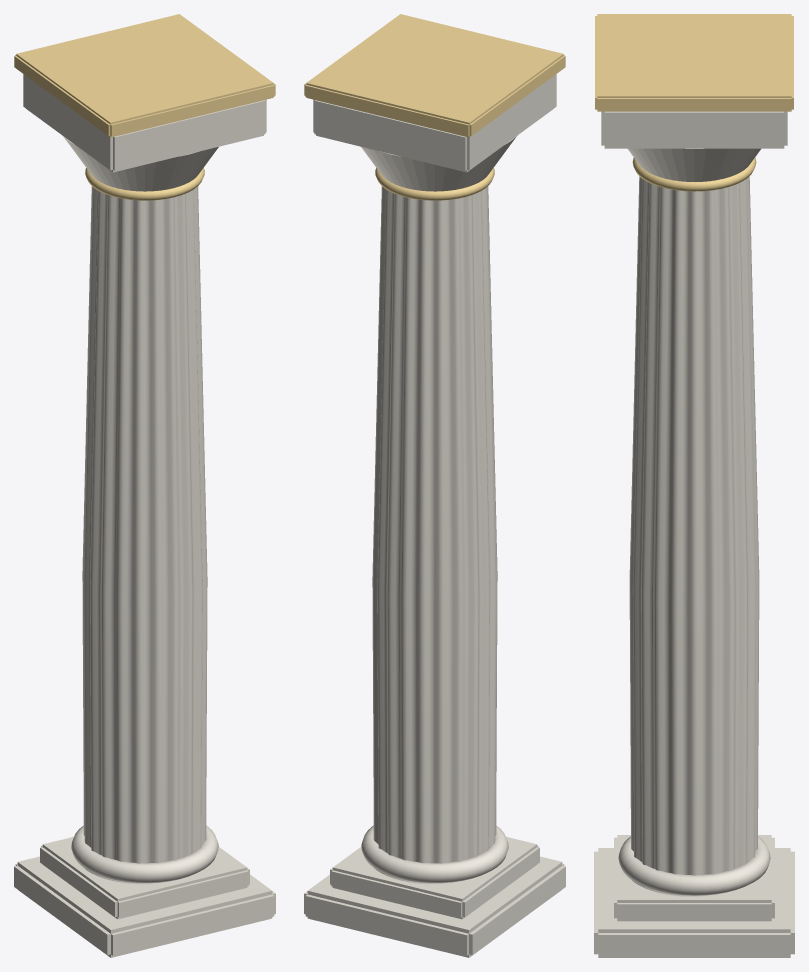
File: deepglass_pillar.glb
3 renders of one model, left to right at view 1: azimuth 30°, elevation 25°; view 2: azimuth 150°, elevation 25°; view 3: azimuth 270°, elevation 25°, orthographic. The views are drawn at different scales.
Visible parts, largest first — view 1: shaft, cap_plate, plinth, abacus, step, base_torus, echinus, neck_ring; view 2: shaft, cap_plate, plinth, abacus, step, base_torus, echinus, neck_ring; view 3: shaft, cap_plate, plinth, abacus, step, base_torus, echinus, neck_ring.
Boxes of the visible parts, x1,y1,x2,y2 form: shaft: (82,186,207,863); cap_plate: (14,14,275,137); plinth: (14,856,275,957); abacus: (23,74,266,172); step: (40,836,249,919); base_torus: (71,825,218,883); echinus: (63,136,218,191); neck_ring: (85,168,204,200); shaft: (372,186,497,863); cap_plate: (304,14,565,137); plinth: (304,856,565,957); abacus: (313,74,556,172); step: (330,836,539,919); base_torus: (361,825,508,883); echinus: (361,136,516,191); neck_ring: (375,168,494,200); shaft: (629,176,759,875); cap_plate: (595,14,793,111); plinth: (594,848,794,957); abacus: (601,111,787,148); step: (614,835,774,921); base_torus: (618,836,770,895); echinus: (628,148,760,181); neck_ring: (632,157,756,191).
Size of the model in its own units: 1.9 by 9 by 1.9.
